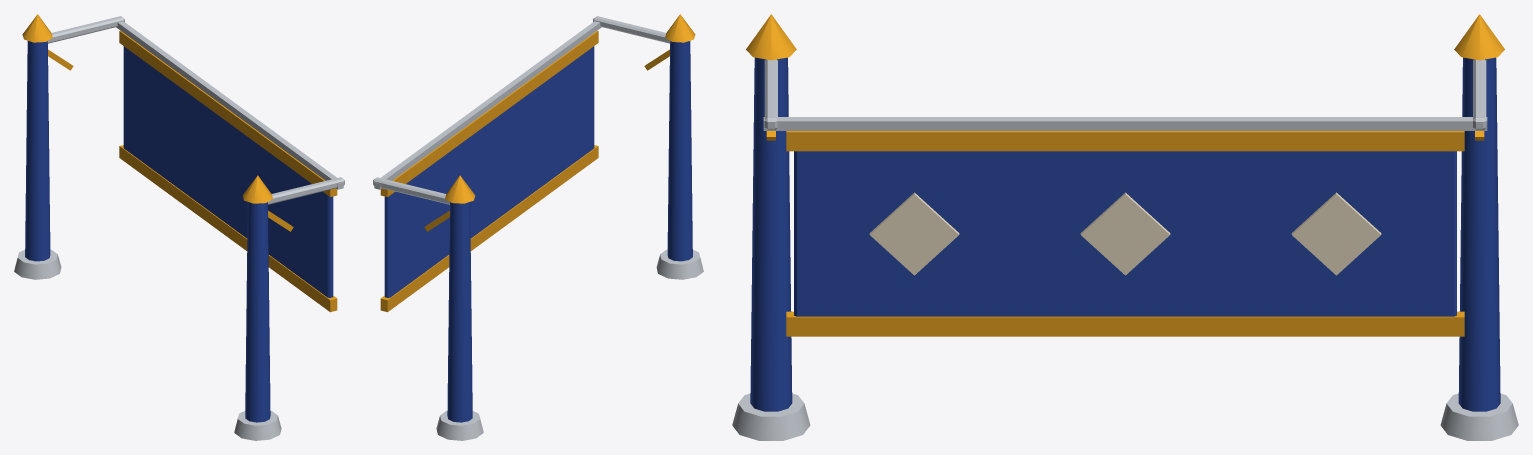
Rendered from banner.glb.
3 views of the same model, side by side, from view 1: azimuth 30°, elevation 25°; view 2: azimuth 150°, elevation 25°; view 3: azimuth 270°, elevation 25° (orthographic). The views are drawn at different scales.
Parts seen in each view (by area): view 1: cloth, mast_b, mast_a, cloth_top, cloth_bottom, cable, base_b, base_a, arm_b, arm_a, mast_cap_b, mast_cap_a; view 2: cloth, mast_a, mast_b, cloth_top, cloth_bottom, cable, base_a, base_b, arm_a, arm_b, mast_cap_a, mast_cap_b; view 3: cloth, cloth_bottom, cloth_top, mast_a, mast_b, cable, emblem_1, emblem_0, emblem_2, base_a, base_b, mast_cap_a (+3 smaller).
Part boxes in pixels (x1,y1,x2,y2): cloth: (123,46,333,297); mast_b: (245,202,270,422); mast_a: (25,41,50,261); cloth_top: (119,30,337,196); cloth_bottom: (119,145,337,312); cable: (116,21,343,189); base_b: (234,410,281,440); base_a: (14,249,61,279); arm_b: (268,177,344,204); arm_a: (47,16,124,43); mast_cap_b: (242,175,272,203); mast_cap_a: (22,14,52,42); cloth: (384,46,594,297); mast_a: (447,202,472,422); mast_b: (667,41,692,261); cloth_top: (380,30,598,196); cloth_bottom: (380,145,598,312); cable: (374,21,601,189); base_a: (436,410,483,440); base_b: (656,249,703,279); arm_a: (373,177,449,204); arm_b: (593,16,670,43); mast_cap_a: (445,175,475,203); mast_cap_b: (665,14,695,42); cloth: (794,151,1456,316); cloth_bottom: (786,311,1464,336); cloth_top: (786,131,1464,151); mast_a: (1458,57,1500,411); mast_b: (750,57,792,411); cable: (763,117,1487,130); emblem_1: (1080,192,1170,275); emblem_0: (1291,192,1381,275); emblem_2: (869,192,959,275); base_a: (1440,393,1518,440); base_b: (732,393,810,440); mast_cap_a: (1454,14,1504,60).
Size of the model in its own units: 1.3 by 3 by 5.2.
